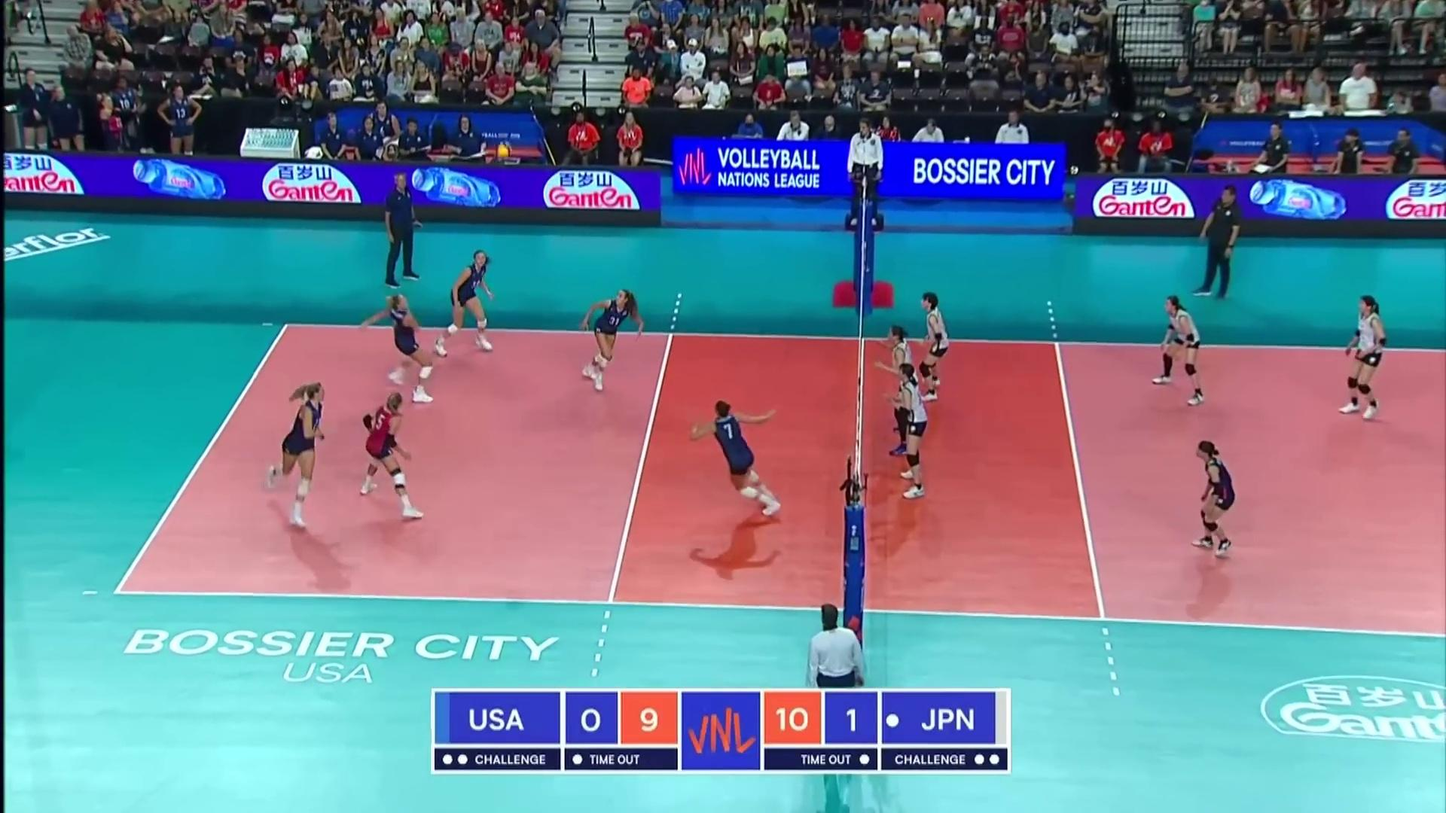player: (357, 391, 422, 526), (269, 378, 325, 534), (701, 404, 781, 513), (376, 295, 438, 403), (582, 289, 646, 388), (1339, 300, 1391, 421), (1157, 299, 1210, 404), (876, 326, 918, 457), (1191, 445, 1239, 556), (447, 251, 497, 353), (892, 363, 927, 499), (919, 295, 956, 413)
refree: (810, 602, 865, 747), (849, 123, 880, 226)
